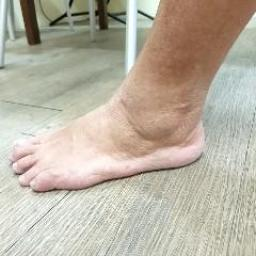Lateral View -Left Foot-: (2, 75, 238, 207)
